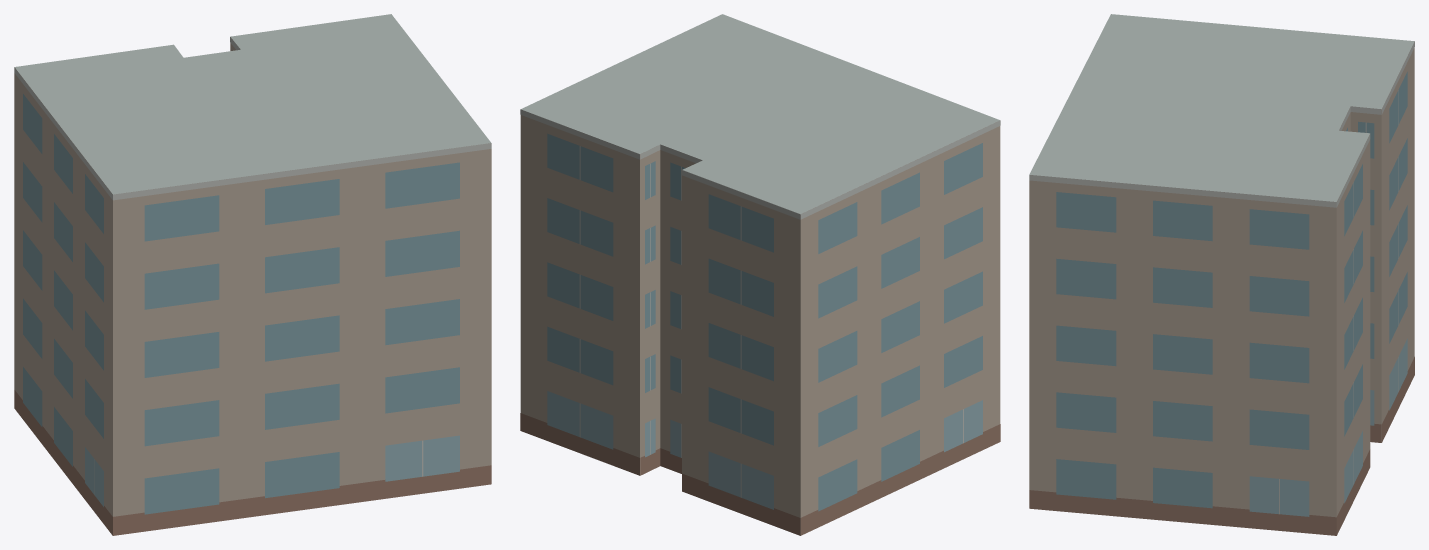
The model's file is survey-upis-32665014.glb.
The picture shows the model from 3 angles, left to right: view 1: azimuth 30°, elevation 25°; view 2: azimuth 150°, elevation 25°; view 3: azimuth 270°, elevation 25°; orthographic projection. The views are drawn at different scales.
Parts seen in each view (by area): view 1: survey-upis-32665014.tmp; view 2: survey-upis-32665014.tmp; view 3: survey-upis-32665014.tmp.
Part boxes in pixels (left/top/right/bottom): survey-upis-32665014.tmp: left=14, top=14, right=491, bottom=535; survey-upis-32665014.tmp: left=520, top=14, right=1000, bottom=535; survey-upis-32665014.tmp: left=1029, top=14, right=1414, bottom=535.
Bounding box in the file's own units: 17.28 × 14.3 × 14.98.
